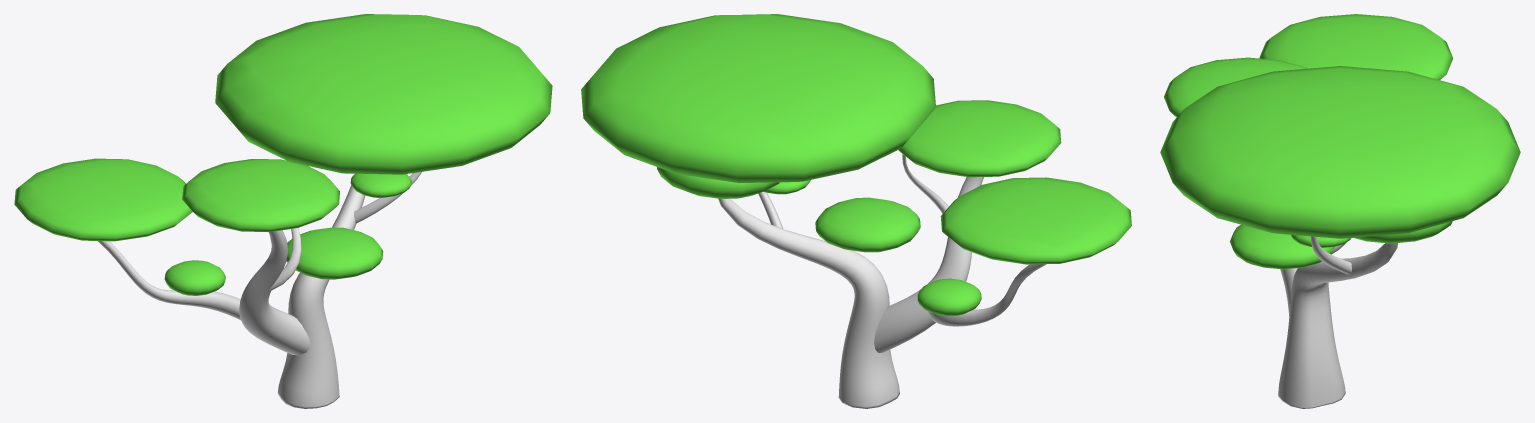
The model's file is tree3.glb.
3 renders of one model, left to right at view 1: azimuth 30°, elevation 25°; view 2: azimuth 150°, elevation 25°; view 3: azimuth 270°, elevation 25°, orthographic. The views are drawn at different scales.
Parts seen in each view (by area): view 1: leaf, WOOD3; view 2: leaf, WOOD3; view 3: leaf, WOOD3.
Part boxes in pixels (left/top/right/bottom): leaf: left=14, top=14, right=552, bottom=295; WOOD3: left=97, top=172, right=421, bottom=408; leaf: left=581, top=14, right=1131, bottom=316; WOOD3: left=718, top=154, right=1046, bottom=408; leaf: left=1160, top=14, right=1520, bottom=269; WOOD3: left=1278, top=236, right=1397, bottom=408.
Bounding box in the file's own units: 12.83 × 7.57 × 7.54.
